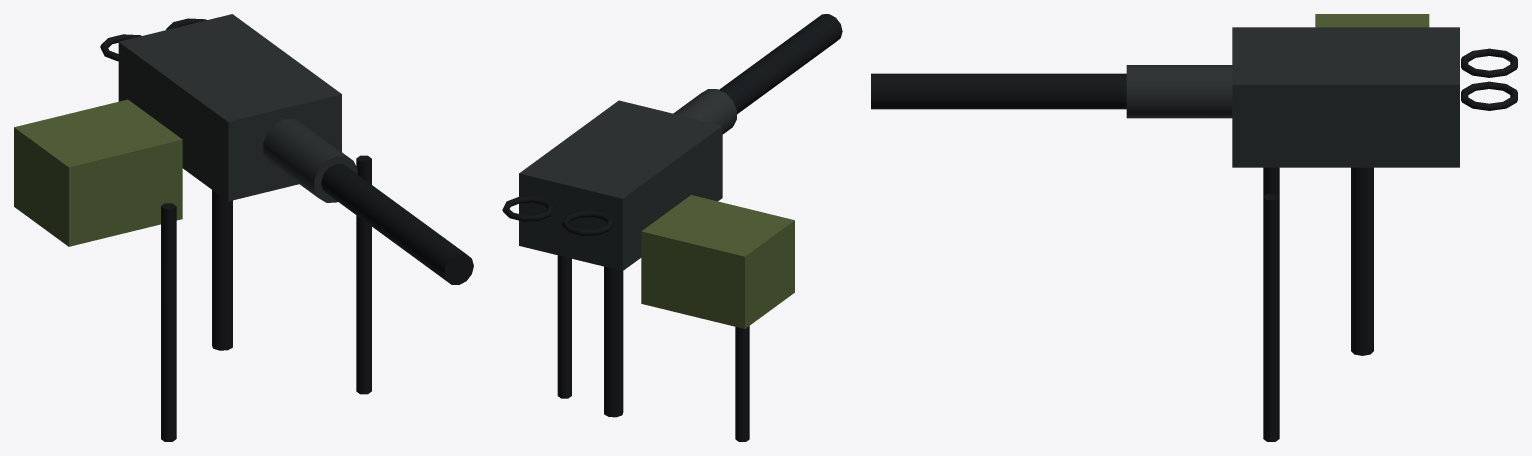
Rendered from m2-browning-heavy-machine-gun.glb.
3 renders of one model, left to right at view 1: azimuth 30°, elevation 25°; view 2: azimuth 150°, elevation 25°; view 3: azimuth 270°, elevation 25°, orthographic. The views are drawn at different scales.
Visible parts, largest first — view 1: receiver, ammoBox, heavyBarrel, coolingJacket, tripodRight, tripodCenter, tripodLeft; view 2: receiver, ammoBox, heavyBarrel, tripodCenter, tripodLeft, tripodRight, coolingJacket, spadeGripRight, spadeGripLeft; view 3: receiver, heavyBarrel, coolingJacket, tripodCenter, tripodLeft, ammoBox, spadeGripRight, spadeGripLeft.
Part boxes in pixels (left/top/right/bottom): receiver: left=118, top=14, right=341, bottom=201; ammoBox: left=14, top=99, right=182, bottom=246; heavyBarrel: left=321, top=164, right=473, bottom=284; coolingJacket: left=263, top=119, right=357, bottom=202; tripodRight: left=161, top=203, right=176, bottom=441; tripodCenter: left=212, top=190, right=232, bottom=350; tripodLeft: left=356, top=155, right=371, bottom=394; receiver: left=519, top=100, right=722, bottom=270; ammoBox: left=641, top=195, right=794, bottom=328; heavyBarrel: left=719, top=14, right=842, bottom=114; tripodCenter: left=604, top=266, right=623, bottom=417; tripodLeft: left=557, top=255, right=571, bottom=398; tripodRight: left=735, top=326, right=749, bottom=441; coolingJacket: left=673, top=89, right=736, bottom=134; spadeGripRight: left=502, top=196, right=554, bottom=221; spadeGripLeft: left=561, top=211, right=613, bottom=235; receiver: left=1232, top=27, right=1459, bottom=167; heavyBarrel: left=871, top=73, right=1126, bottom=109; coolingJacket: left=1126, top=65, right=1232, bottom=118; tripodCenter: left=1351, top=167, right=1373, bottom=355; tripodLeft: left=1263, top=194, right=1279, bottom=441; ammoBox: left=1315, top=14, right=1429, bottom=27; spadeGripRight: left=1461, top=81, right=1517, bottom=110; spadeGripLeft: left=1461, top=48, right=1517, bottom=77.
Bounding box in the file's own units: 1.03 × 1.13 × 1.99.
